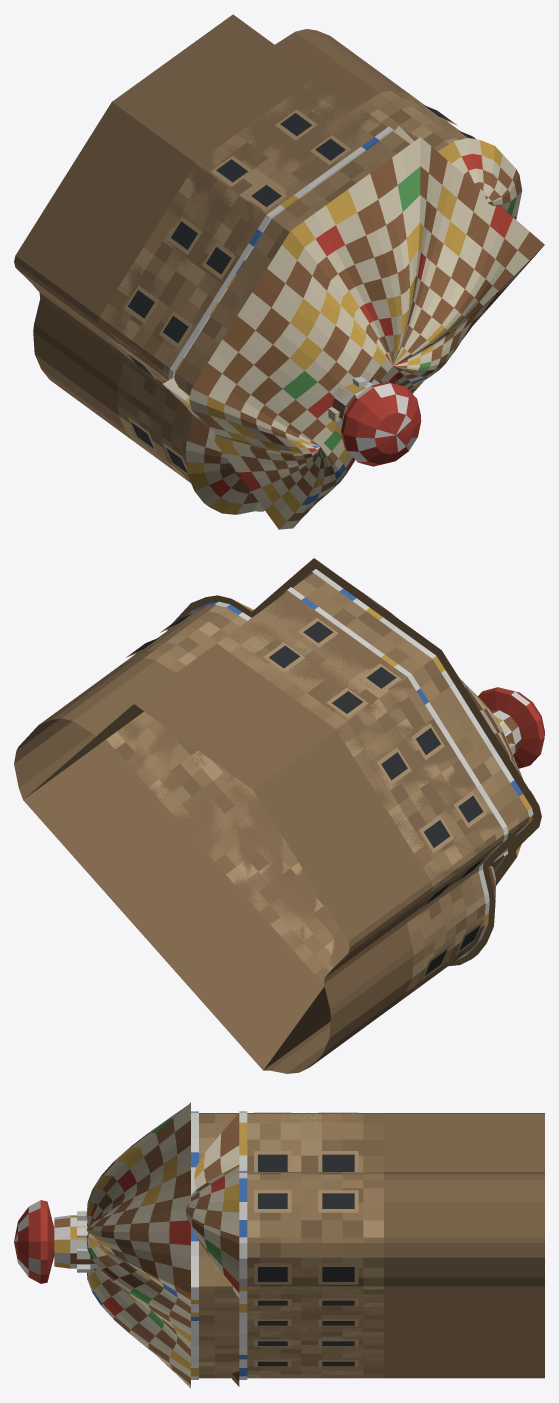
Rendered from casa-del-guarda.glb.
3 views of the same model, one above another, from view 1: azimuth 30°, elevation 25°; view 2: azimuth 150°, elevation 25°; view 3: azimuth 270°, elevation 25° (orthographic). The views are drawn at different scales.
Parts seen in each view (by area): view 1: casa-del-guarda; view 2: casa-del-guarda; view 3: casa-del-guarda.
Part boxes in pixels (x1=…): casa-del-guarda: x1=14, y1=14, x2=544, y2=529; casa-del-guarda: x1=14, y1=558, x2=544, y2=1073; casa-del-guarda: x1=14, y1=1102, x2=544, y2=1388.
Size of the model in its own units: 14.82 by 14.2 by 19.8.
